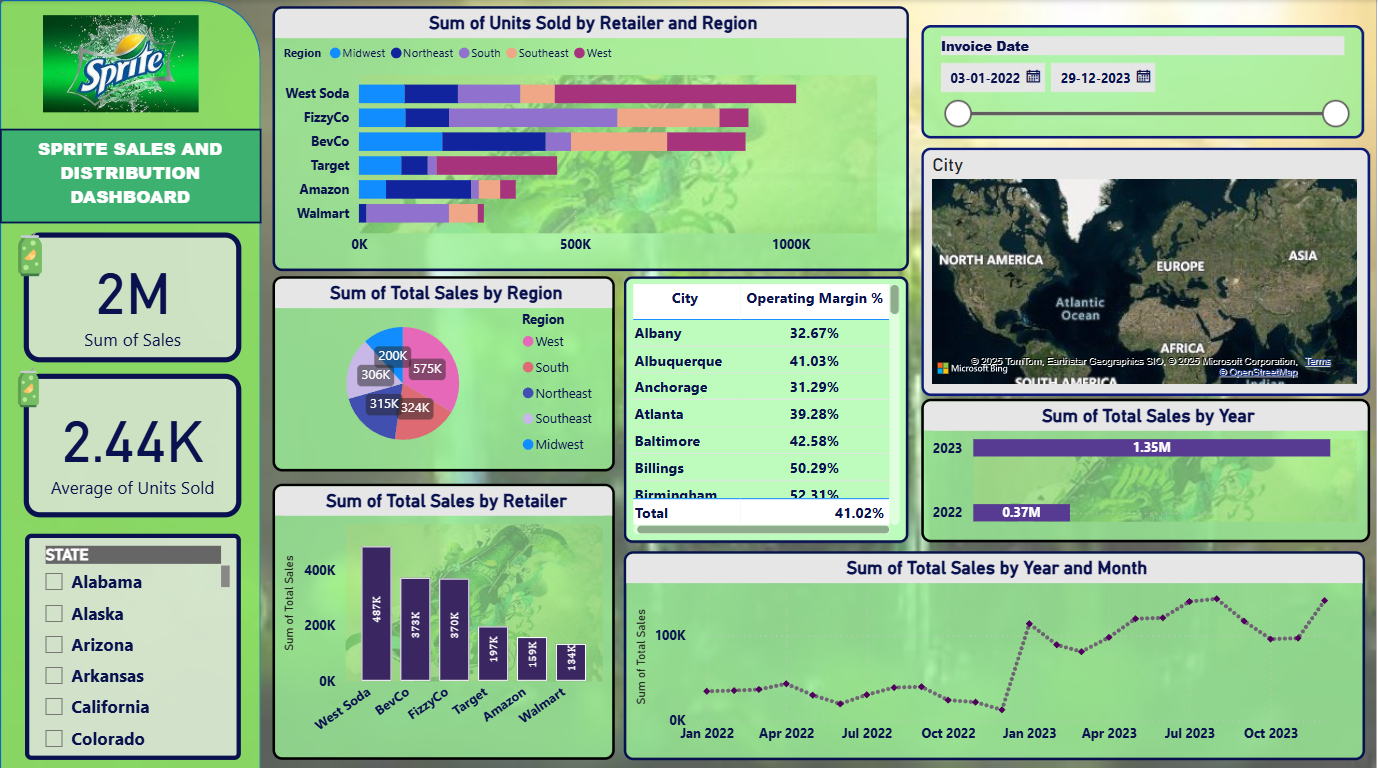

The dashboard page shown, as its layout file describes it:
{"tool":"powerbi","page":{"name":"Page 1","canvas":[1280,720],"ordinal":0},"visuals":[{"type":"shape","box":[0,0,242.5,720],"z":0},{"type":"image","box":[0,8.8,225,100],"z":1000},{"type":"textbox","box":[0,119.8,243,88.4],"z":2000},{"type":"card","fields":{"Values":["Data.SUM OF SALES"]},"box":[22.1,216.3,202.3,120.9],"z":3000},{"type":"columnChart","fields":{"Y":["Sum(Data.Total Sales)"],"Category":["Data.Retailer"]},"box":[253.5,450,318.6,257],"z":4000},{"type":"filledMap","fields":{"Category":["Data.City"]},"box":[857,137.2,417.4,231.4],"z":5000},{"type":"lineChart","fields":{"Y":["Sum(Data.Total Sales)"],"Category":["Data.Invoice Date.Variation.Date Hierarchy.Year","Data.Invoice Date.Variation.Date Hierarchy.Month","Data.Invoice Date.Variation.Date Hierarchy.Day"]},"box":[580.2,512.8,689.5,194.2],"z":6000},{"type":"slicer","fields":{"Values":["Data.State"]},"box":[23.3,496.5,201.2,210.5],"z":7000},{"type":"barChart","fields":{"Category":["Data.Retailer"],"Y":["Sum(Data.Units Sold)"],"Series":["Data.Region"]},"box":[253.5,5.8,591.9,246.5],"z":8000},{"type":"card","fields":{"Values":["Avg(Data.Units Sold)"]},"box":[22.1,347.7,202.3,133.7],"z":9000},{"type":"pieChart","fields":{"Category":["Data.Region"],"Y":["Sum(Data.Total Sales)"]},"box":[253.5,257,318.6,181.4],"z":10000},{"type":"slicer","fields":{"Values":["Data.Invoice Date"]},"box":[857,23.3,411.6,105.8],"z":11000},{"type":"barChart","fields":{"Y":["Sum(Data.Total Sales)"],"Category":["Data.Invoice Date.Variation.Date Hierarchy.Year"]},"box":[857,370.9,417.4,133.7],"z":12000},{"type":"image","box":[2.3,208.1,51.2,55.8],"z":13000},{"type":"image","box":[0,337.2,53.5,46.5],"z":14000},{"type":"tableEx","fields":{"Values":["Data.City","Avg(Data.Operating Margin)"]},"box":[580.2,257,265.1,247.7],"z":14001}]}

Visuals, with their boxes in screenshot pixels (x1, y1, x2, y2), scaled from the page's 1280x720 canvas onto the 1378x768 screenshot:
shape: {"x1": 0, "y1": 0, "x2": 261, "y2": 767}
image: {"x1": 0, "y1": 9, "x2": 242, "y2": 116}
textbox: {"x1": 0, "y1": 128, "x2": 262, "y2": 222}
card - Data.SUM OF SALES: {"x1": 24, "y1": 231, "x2": 242, "y2": 360}
columnChart - Sum(Data.Total Sales) x Data.Retailer: {"x1": 273, "y1": 480, "x2": 616, "y2": 754}
filledMap - Data.City: {"x1": 923, "y1": 146, "x2": 1372, "y2": 393}
lineChart - Sum(Data.Total Sales) x Data.Invoice Date.Variation.Date Hierarchy.Year: {"x1": 625, "y1": 547, "x2": 1367, "y2": 754}
slicer - Data.State: {"x1": 25, "y1": 530, "x2": 242, "y2": 754}
barChart - Data.Retailer x Sum(Data.Units Sold): {"x1": 273, "y1": 6, "x2": 910, "y2": 269}
card - Avg(Data.Units Sold): {"x1": 24, "y1": 371, "x2": 242, "y2": 513}
pieChart - Data.Region x Sum(Data.Total Sales): {"x1": 273, "y1": 274, "x2": 616, "y2": 468}
slicer - Data.Invoice Date: {"x1": 923, "y1": 25, "x2": 1366, "y2": 138}
barChart - Sum(Data.Total Sales) x Data.Invoice Date.Variation.Date Hierarchy.Year: {"x1": 923, "y1": 396, "x2": 1372, "y2": 538}
image: {"x1": 2, "y1": 222, "x2": 58, "y2": 281}
image: {"x1": 0, "y1": 360, "x2": 58, "y2": 409}
tableEx - Data.City x Avg(Data.Operating Margin): {"x1": 625, "y1": 274, "x2": 910, "y2": 538}
